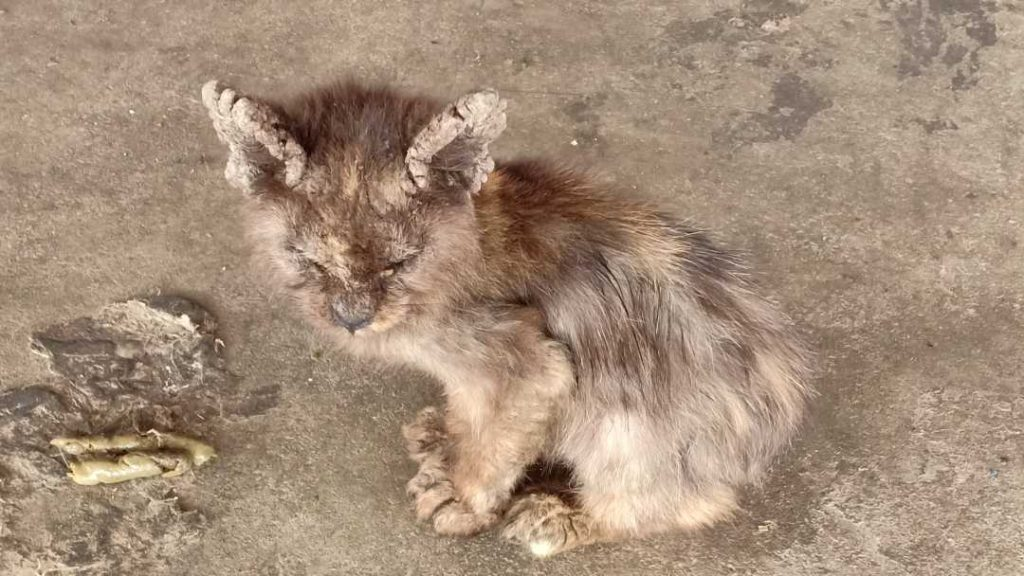kudis: (185, 67, 511, 323), (183, 70, 313, 189), (402, 73, 510, 205)
